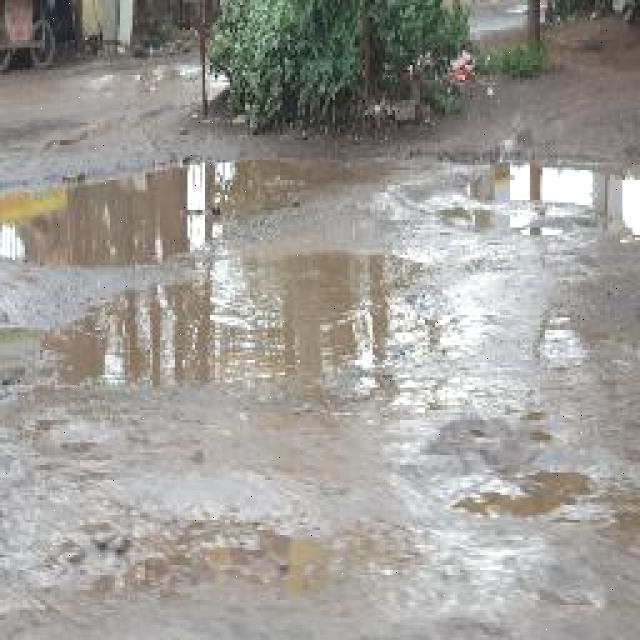stagnation: (34, 267, 420, 399), (4, 164, 339, 246), (473, 147, 640, 234)
